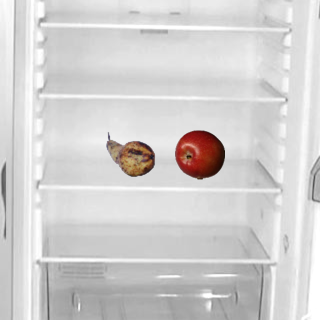Apple Braeburn: (174, 129, 224, 179)
Pear Abate: (105, 129, 155, 179)
